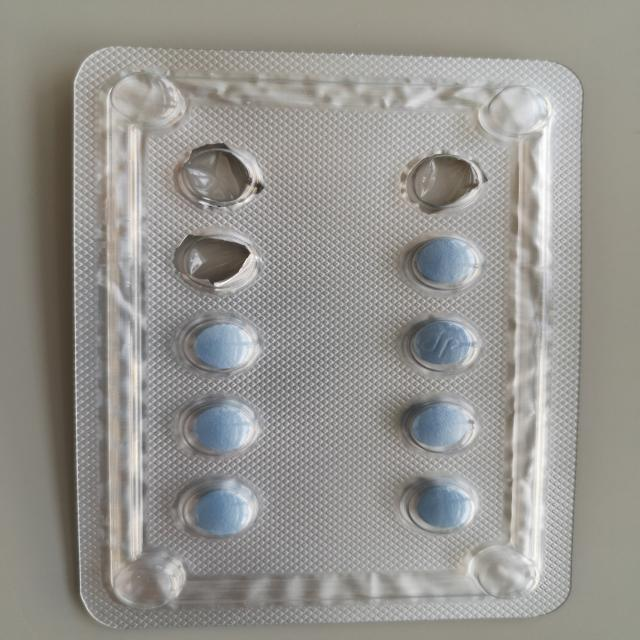Empty: (160, 225, 282, 311), (160, 137, 279, 216)
Pill: (166, 387, 275, 469), (388, 145, 494, 224), (381, 469, 494, 543), (169, 314, 290, 383), (167, 471, 273, 547), (383, 308, 492, 380), (392, 234, 497, 296), (392, 390, 484, 459)
